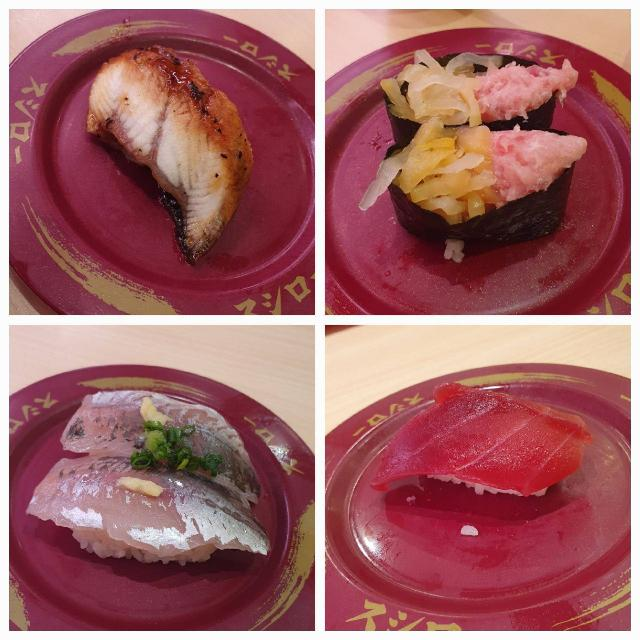janred: (1, 33, 330, 323), (339, 52, 636, 306), (329, 426, 640, 606), (6, 381, 296, 571)
